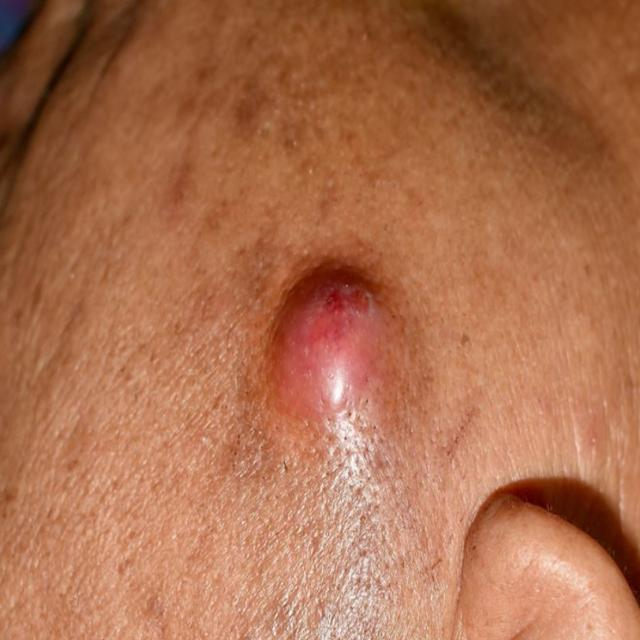nodule: (266, 241, 425, 498)
